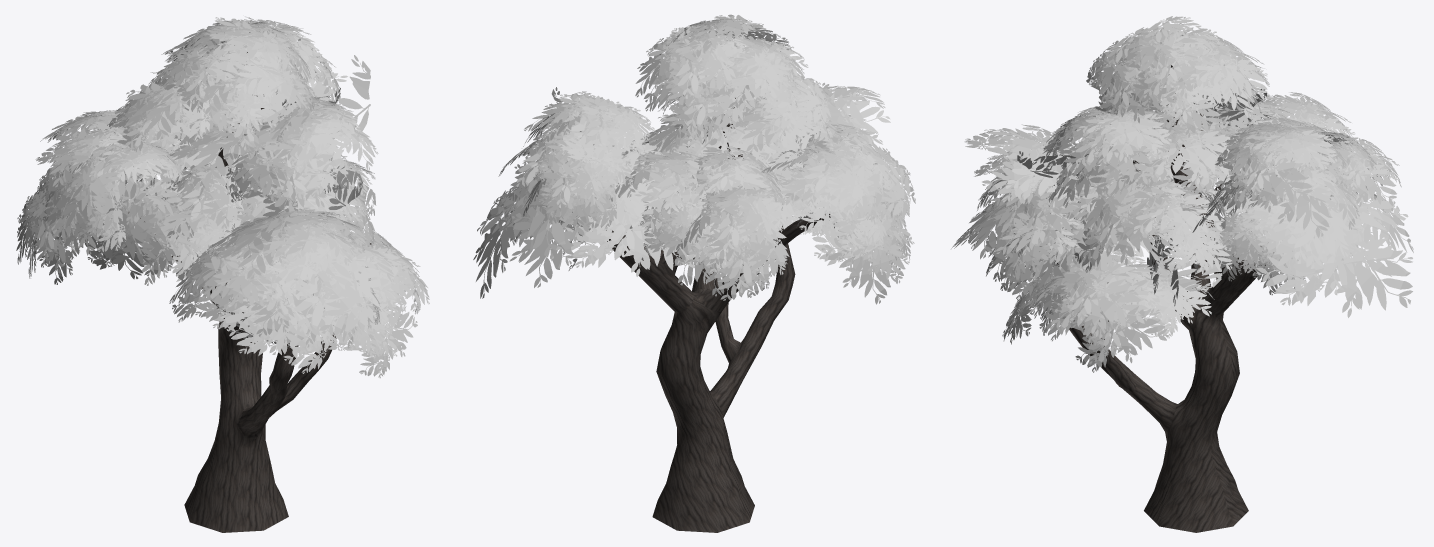
File: tree_02.fbx
3 renders of one model, left to right at view 1: azimuth 30°, elevation 25°; view 2: azimuth 150°, elevation 25°; view 3: azimuth 270°, elevation 25°, orthographic. The views are drawn at different scales.
Visible parts, largest first — view 1: Tree_02_LOD0; view 2: Tree_02_LOD0; view 3: Tree_02_LOD0.
Part boxes in pixels (<box>): Tree_02_LOD0: <box>16,16,429,532</box>; Tree_02_LOD0: <box>473,14,915,532</box>; Tree_02_LOD0: <box>951,16,1413,532</box>.
Size of what is drawn, in the model's own units: 19.6 by 23.77 by 21.34.
